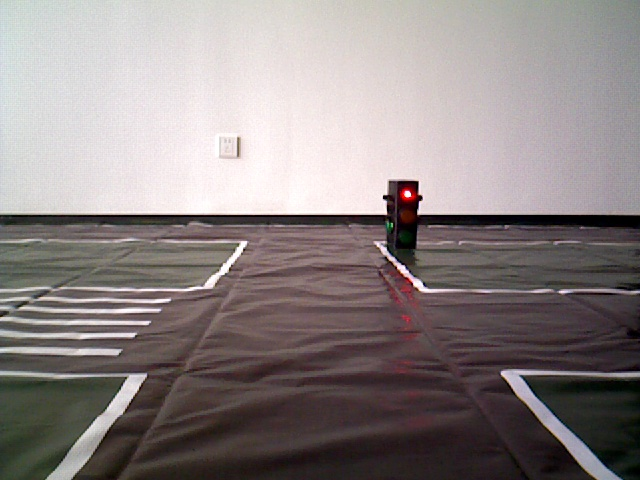red: (383, 181, 416, 248)
